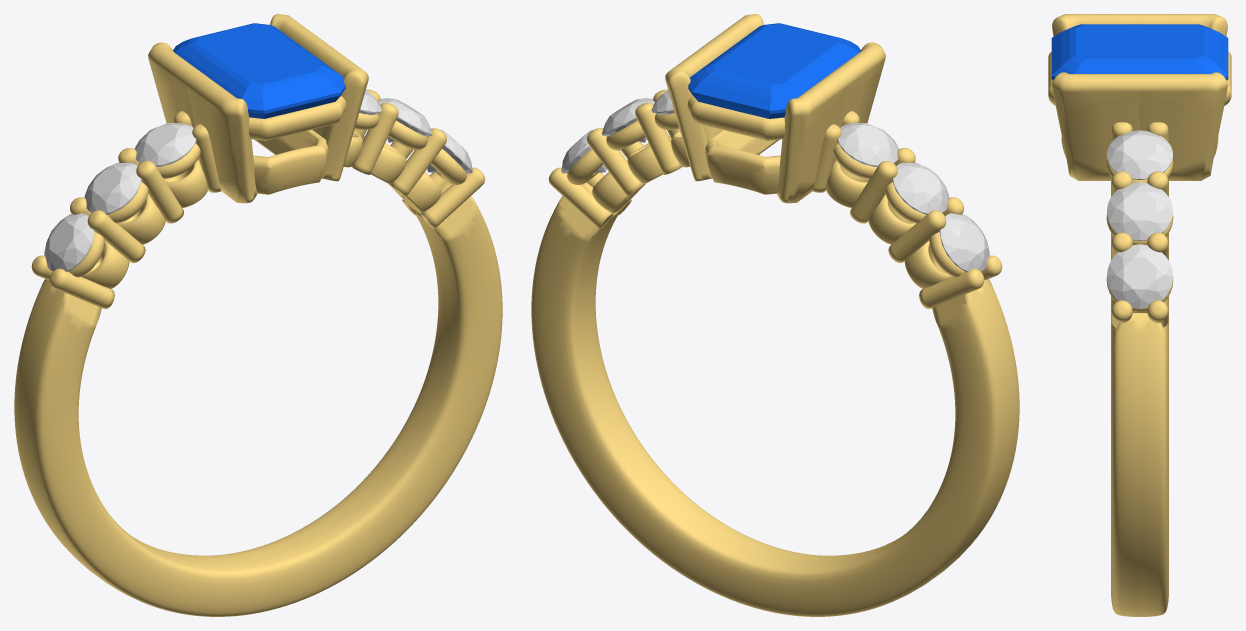
File: bluesapphire-emerald-yellowgold-halfmoonbezel-straightband-7stone.glb
3 views of the same model, side by side, from view 1: azimuth 30°, elevation 25°; view 2: azimuth 150°, elevation 25°; view 3: azimuth 270°, elevation 25° (orthographic).
Parts seen in each view (by area): view 1: metal, stone.002, side.012, side.013, side.014, side.016; view 2: metal, stone.002, side.012, side.013, side.014, side.016; view 3: metal, stone.002, side.017, side.016, side.015.
Part boxes in pixels (<box>): metal: <box>14,14,502,616</box>; stone.002: <box>173,23,345,118</box>; side.012: <box>44,213,94,271</box>; side.013: <box>84,162,141,214</box>; side.014: <box>134,123,196,166</box>; side.016: <box>378,98,432,142</box>; metal: <box>531,14,1019,616</box>; stone.002: <box>688,23,860,118</box>; side.012: <box>939,213,989,271</box>; side.013: <box>892,162,949,214</box>; side.014: <box>837,123,899,166</box>; side.016: <box>601,98,655,142</box>; metal: <box>1048,14,1231,616</box>; stone.002: <box>1051,24,1228,80</box>; side.017: <box>1107,244,1172,308</box>; side.016: <box>1107,182,1172,240</box>; side.015: <box>1107,130,1172,179</box>.
Size of the model in its own units: 20.49 by 22.94 by 6.94.
